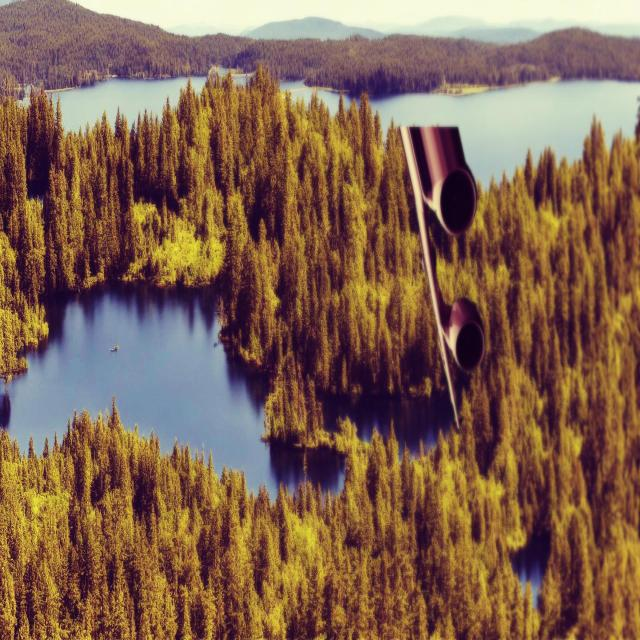airplane: (398, 123, 486, 431)
